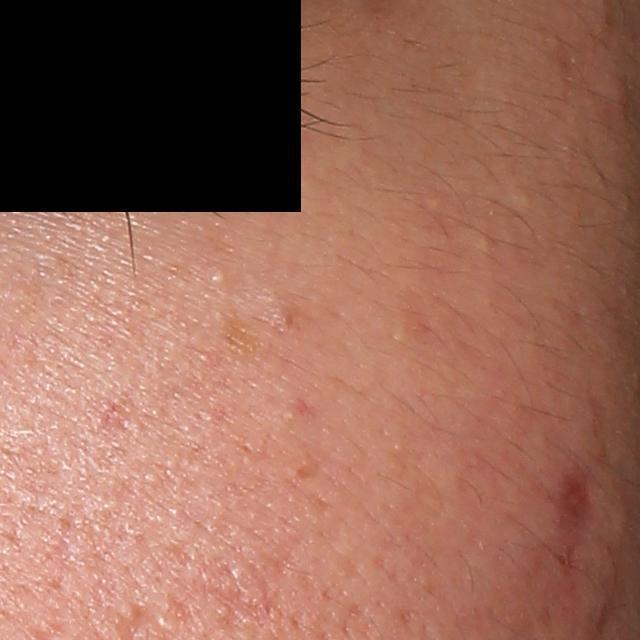atrophic_scar: (558, 469, 607, 538)
comedo: (208, 268, 229, 286)
melasma: (219, 315, 266, 356)
papule: (587, 66, 637, 117)
